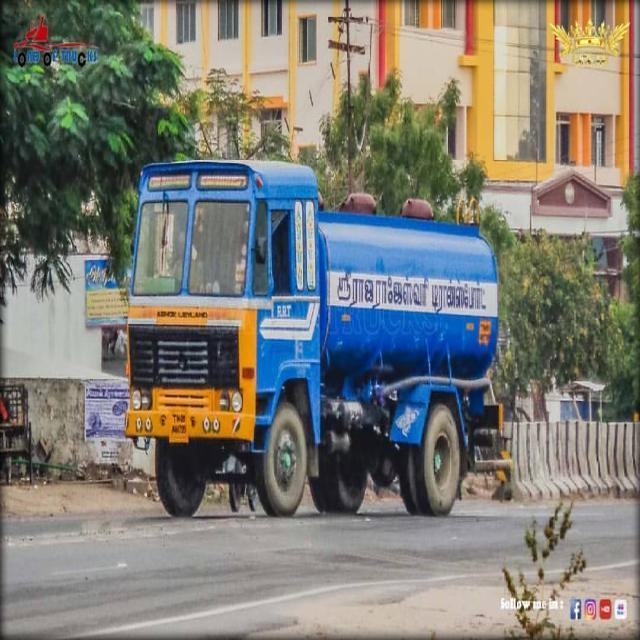Truck: (123, 155, 518, 534)
